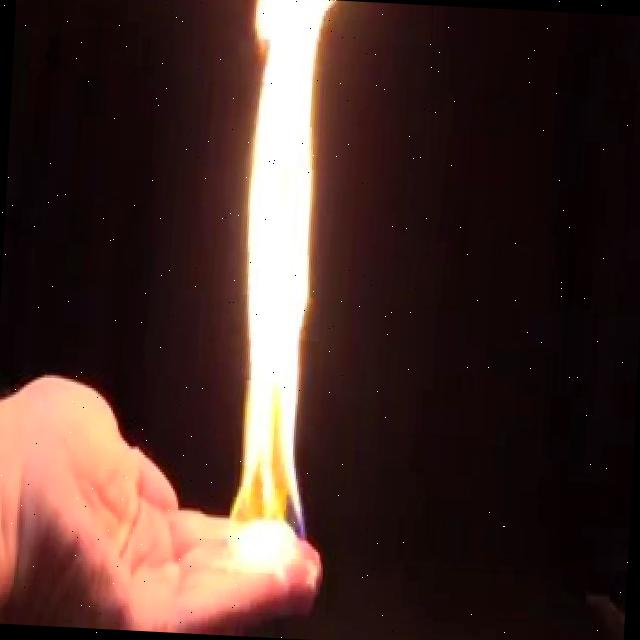fire: (200, 0, 356, 587)
